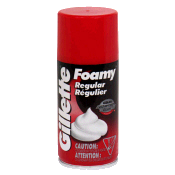grozi_87: (56, 7, 119, 168)
